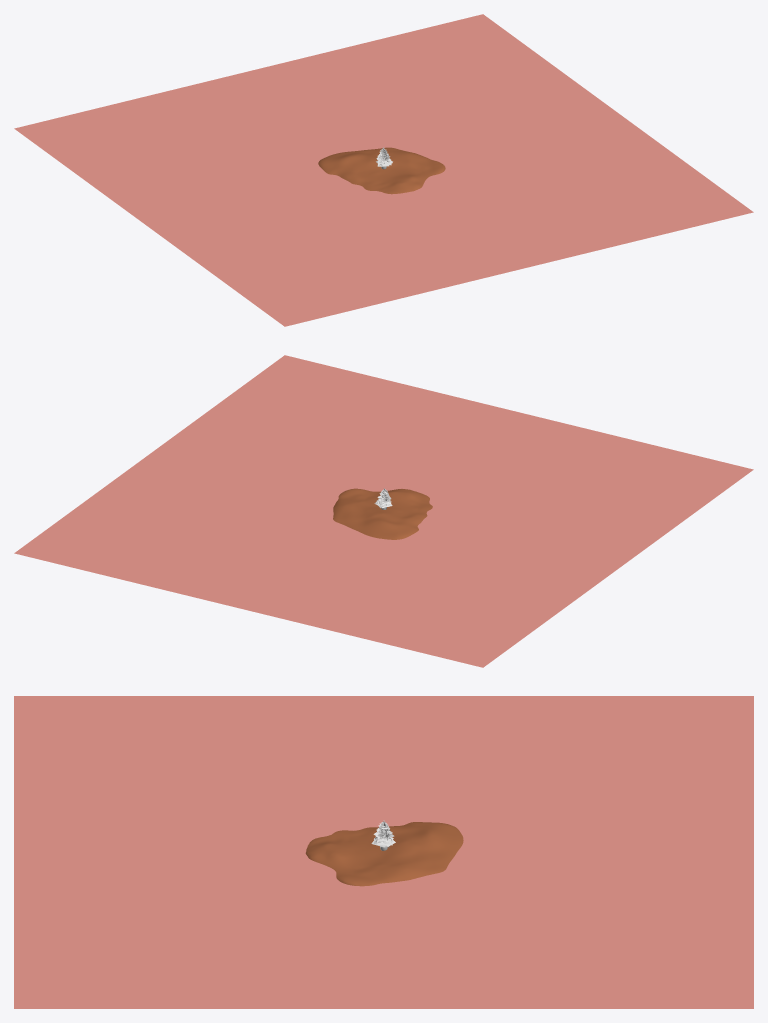
File: kristmas.fbx
3 views of the same model, one above another, from view 1: azimuth 30°, elevation 25°; view 2: azimuth 150°, elevation 25°; view 3: azimuth 270°, elevation 25° (orthographic). The views are drawn at different scales.
Visible parts, largest first — view 1: Plane.318, IceBerg; view 2: Plane.318, IceBerg; view 3: Plane.318, IceBerg.
Boxes of the visible parts, bbox=[...] form: Plane.318: bbox=[14, 14, 753, 326]; IceBerg: bbox=[318, 147, 445, 194]; Plane.318: bbox=[14, 355, 753, 667]; IceBerg: bbox=[333, 488, 432, 539]; Plane.318: bbox=[14, 696, 753, 1008]; IceBerg: bbox=[305, 822, 463, 886].
Size of the model in its own units: 125 by 18.01 by 125.
